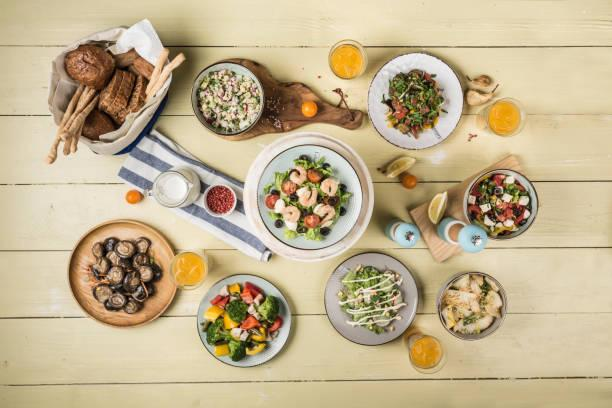Braised Crucian Carp: (48, 21, 171, 155), (67, 219, 177, 327), (255, 143, 361, 251), (367, 52, 465, 151), (196, 273, 291, 367), (324, 251, 419, 345), (191, 61, 265, 137), (464, 168, 538, 240), (436, 270, 507, 340)
